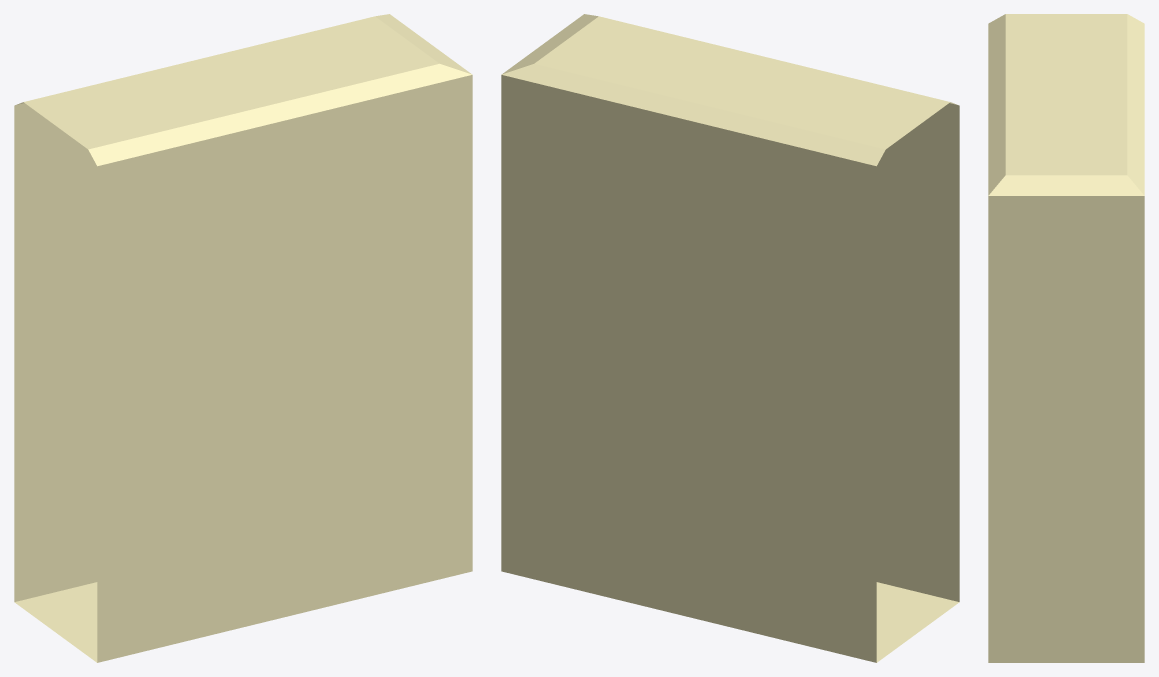
The model's file is Itr_Couch_Outside_Back_Right_02.FBX.
The picture shows the model from 3 angles, left to right: view 1: azimuth 30°, elevation 25°; view 2: azimuth 150°, elevation 25°; view 3: azimuth 270°, elevation 25°; orthographic projection. The views are drawn at different scales.
Parts seen in each view (by area): view 1: Itr_Couch_Outside_Back_Right_02; view 2: Itr_Couch_Outside_Back_Right_02; view 3: Itr_Couch_Outside_Back_Right_02.
Part boxes in pixels (bbox=[...]): Itr_Couch_Outside_Back_Right_02: bbox=[14, 14, 472, 662]; Itr_Couch_Outside_Back_Right_02: bbox=[501, 14, 959, 662]; Itr_Couch_Outside_Back_Right_02: bbox=[988, 14, 1144, 662].
Bounding box in the file's own units: 18.79 × 24.24 × 7.19.
